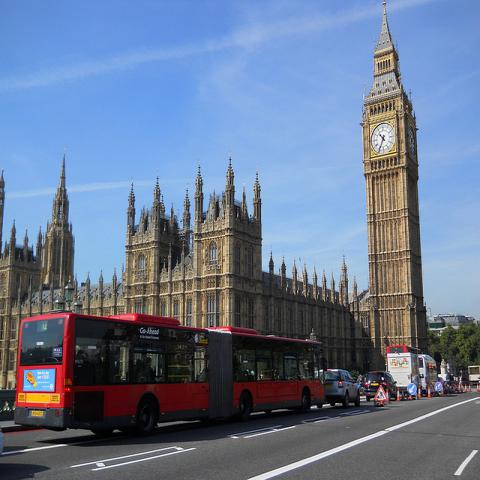bus: (13, 309, 328, 442), (388, 350, 425, 388), (387, 344, 423, 354)
car: (325, 368, 360, 408), (366, 371, 398, 401)
